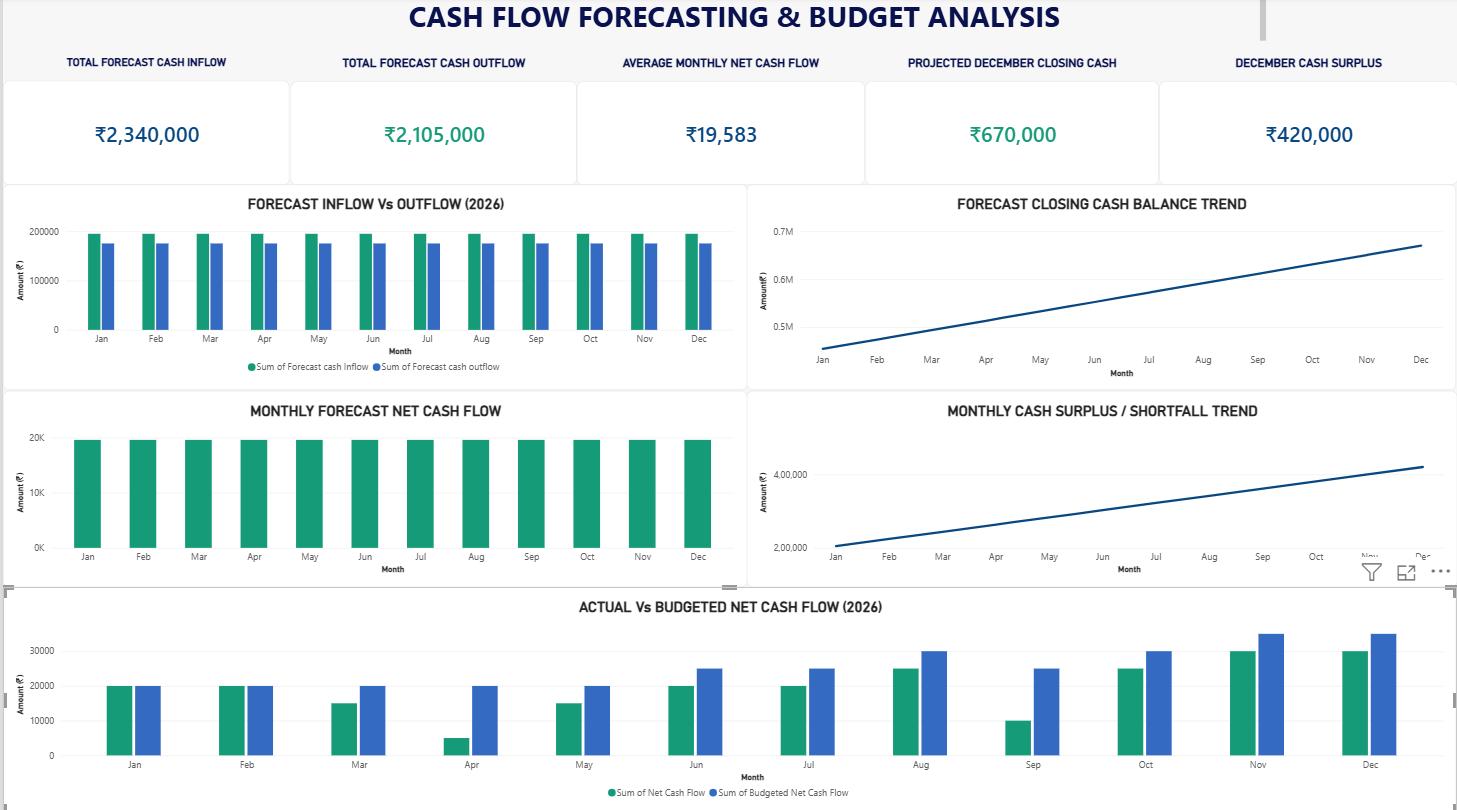

Layout of this report page (visuals, bound fields, positions):
{"tool":"powerbi","page":{"name":"Page 1","canvas":[1920,1080],"ordinal":0},"visuals":[{"type":"cardVisual","title":"TOTAL FORECAST CASH INFLOW ","fields":{"Data":["CashFlow_Forecast.Total Forecast Inflows Display"]},"box":[0,76.8,378.6,171.4],"z":0},{"type":"cardVisual","title":"TOTAL FORECAST CASH OUTFLOW","fields":{"Data":["CashFlow_Forecast.Total Forecast Outflows Display"]},"box":[378.6,76.8,378.6,171.4],"z":1000},{"type":"cardVisual","title":"AVERAGE MONTHLY NET CASH FLOW","fields":{"Data":["CashFlow_Forecast.Average Monthly Net Cash Flow Display"]},"box":[757.1,76.8,380.4,171.4],"z":2000},{"type":"cardVisual","title":"PROJECTED DECEMBER CLOSING CASH","fields":{"Data":["CashFlow_Forecast.December Closing Cash Display"]},"box":[1137.5,76.8,387.5,171.4],"z":3000},{"type":"cardVisual","title":"DECEMBER CASH SURPLUS","fields":{"Data":["CashFlow_Forecast.December Cash Surplus Display"]},"box":[1525,76.8,394.6,171.4],"z":4000},{"type":"clusteredColumnChart","title":"FORECAST INFLOW Vs OUTFLOW (2026)","fields":{"Category":["CashFlow_Forecast.Month Label"],"Y":["Sum(CashFlow_Forecast.Forecast cash Inflow)","Sum(CashFlow_Forecast.Forecast cash outflow)"]},"box":[0,248.2,982.1,271.4],"z":5000},{"type":"lineChart","title":"FORECAST CLOSING CASH BALANCE TREND","fields":{"Category":["CashFlow_Forecast.Month Label"],"Y":["Sum(CashFlow_Forecast.Forecast closing cash balance )"]},"box":[982.1,248.2,935.7,271.4],"z":6000},{"type":"clusteredColumnChart","title":"MONTHLY FORECAST NET CASH FLOW ","fields":{"Category":["CashFlow_Forecast.Month Label"],"Y":["Sum(CashFlow_Forecast.Forecast net cash flow )"]},"box":[0,519.6,982.1,258.9],"z":7000},{"type":"lineChart","title":"MONTHLY CASH SURPLUS / SHORTFALL TREND ","fields":{"Category":["CashFlow_Forecast.Month Label"],"Y":["Sum(CashFlow_Forecast.Cash surplus/shortfall)"]},"box":[982.1,519.6,937.5,258.9],"z":8000},{"type":"clusteredColumnChart","title":"ACTUAL Vs BUDGETED NET CASH FLOW (2026)","fields":{"Category":["Historical_Data.Month"],"Y":["Sum(Historical_Data.Net Cash Flow)","Sum(Historical_Data.Budgeted Net Cash Flow)"]},"box":[0,778.6,1917.9,301.8],"z":9000},{"type":"textbox","box":[271.4,0,1394.7,62.5],"z":10000}]}

Visuals, with their boxes in screenshot pixels (x1, y1, x2, y2), scaled from the page's 1920x1080 canvas onto the 1457x810 screenshot:
"TOTAL FORECAST CASH INFLOW " cardVisual: select_region(0, 58, 287, 186)
"TOTAL FORECAST CASH OUTFLOW" cardVisual: select_region(287, 58, 575, 186)
"AVERAGE MONTHLY NET CASH FLOW" cardVisual: select_region(575, 58, 863, 186)
"PROJECTED DECEMBER CLOSING CASH" cardVisual: select_region(863, 58, 1157, 186)
"DECEMBER CASH SURPLUS" cardVisual: select_region(1157, 58, 1456, 186)
"FORECAST INFLOW Vs OUTFLOW (2026)" clusteredColumnChart: select_region(0, 186, 745, 390)
"FORECAST CLOSING CASH BALANCE TREND" lineChart: select_region(745, 186, 1455, 390)
"MONTHLY FORECAST NET CASH FLOW " clusteredColumnChart: select_region(0, 390, 745, 584)
"MONTHLY CASH SURPLUS / SHORTFALL TREND " lineChart: select_region(745, 390, 1456, 584)
"ACTUAL Vs BUDGETED NET CASH FLOW (2026)" clusteredColumnChart: select_region(0, 584, 1455, 809)
textbox: select_region(206, 0, 1264, 47)
